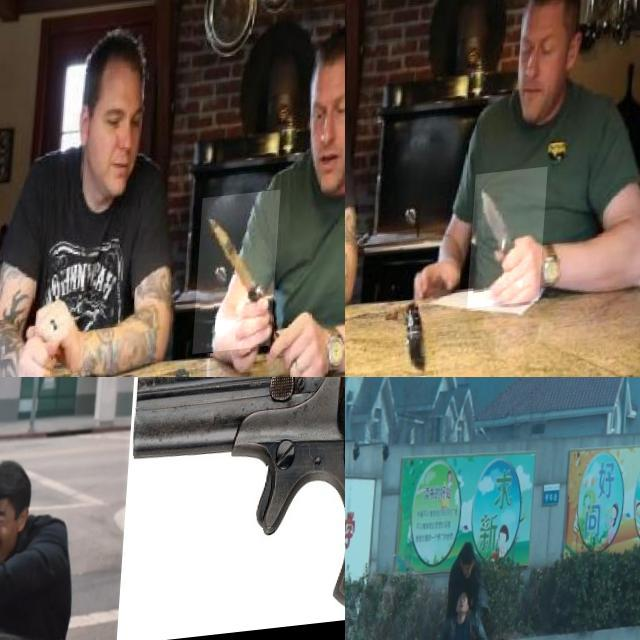-: (198, 199, 284, 362), (473, 178, 552, 318)
gun-knife-thesis - v11 Yolov5 augmented: (126, 377, 345, 640), (0, 377, 53, 432), (0, 530, 21, 611), (316, 377, 345, 407)
